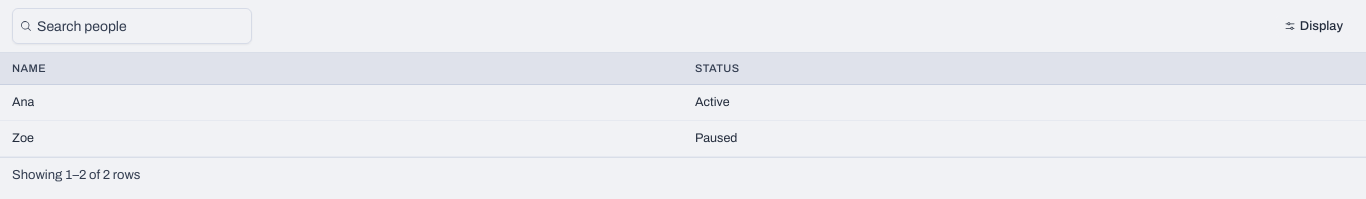
Test: DataTable toolbar › filters rows from the search field inside the table
In the search field with placeholder "Search people": (132, 26) [12, 8, 252, 44], type "Ana"
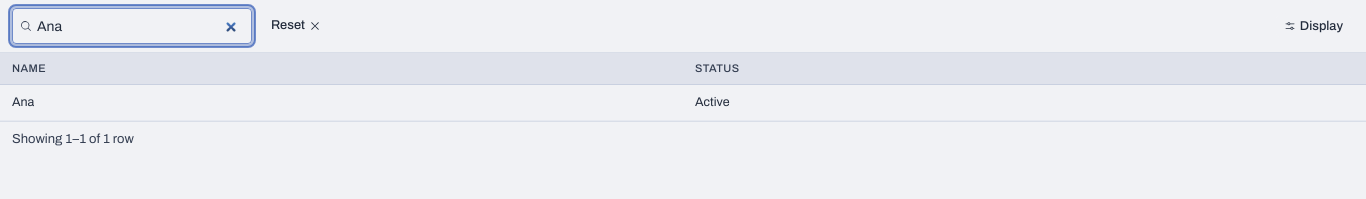
Expected: the text "Ana" is shown, [12, 94, 34, 111]
Expected: the text "Zoe" is gone
Click the button "Reset": (296, 26) [260, 12, 332, 40]
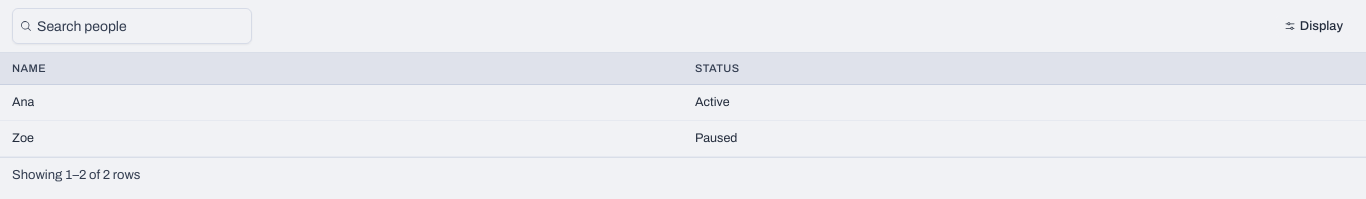
Expected: the text "Zoe" is shown, [12, 130, 34, 147]
